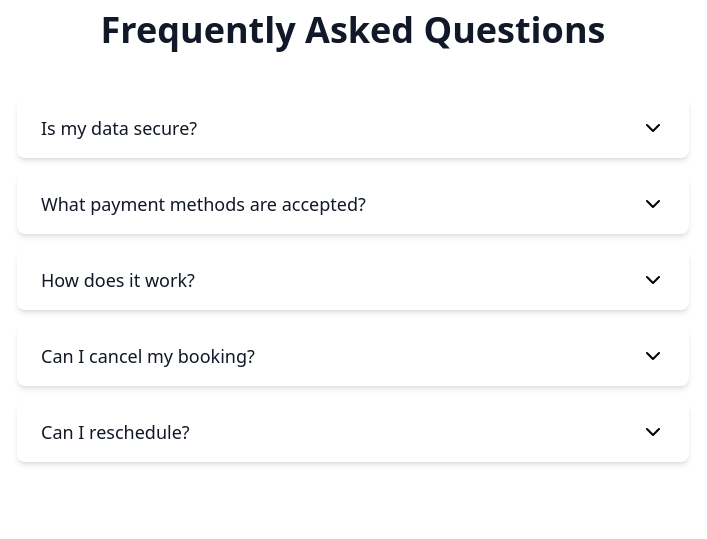
FAQ › expands an item when clicked
Click the button "Is my data secure?" at {"x": 119, "y": 128}, box left=17, top=98, right=689, bottom=158
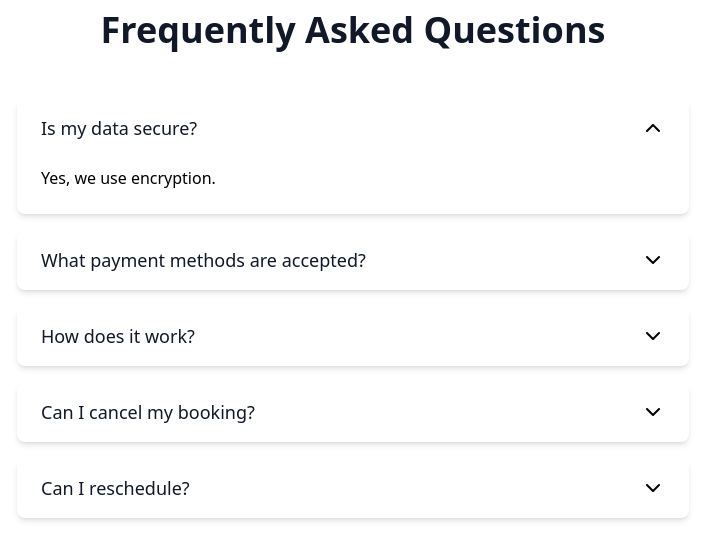
expect the text "Yes, we use encryption." is shown: met, box left=41, top=167, right=216, bottom=189
